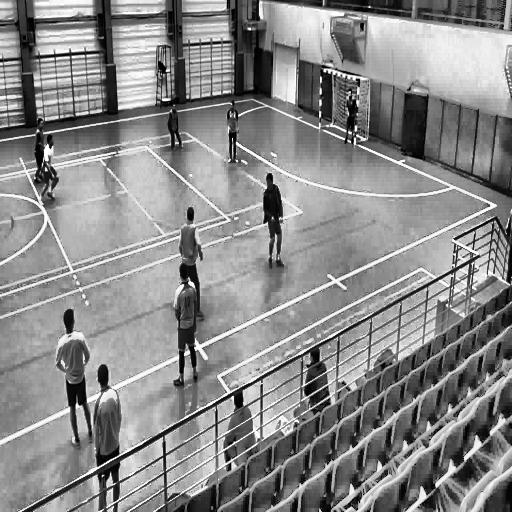player: (55, 308, 94, 449), (94, 364, 121, 512), (173, 264, 199, 390), (178, 208, 204, 324), (262, 173, 286, 273), (40, 133, 60, 207), (343, 87, 358, 147), (227, 101, 241, 164), (168, 102, 184, 154), (34, 118, 45, 183)
